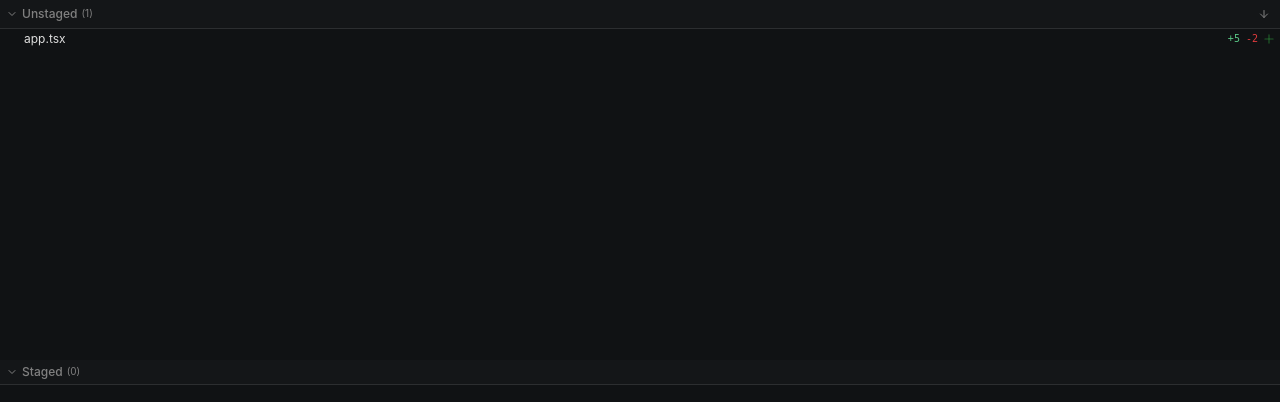
Test: DiffFileTree › context menu - copy path › should show context menu with copy options when file is right-clicked
Right-click the text "app.tsx" at (45, 39), box [24,31,66,47]
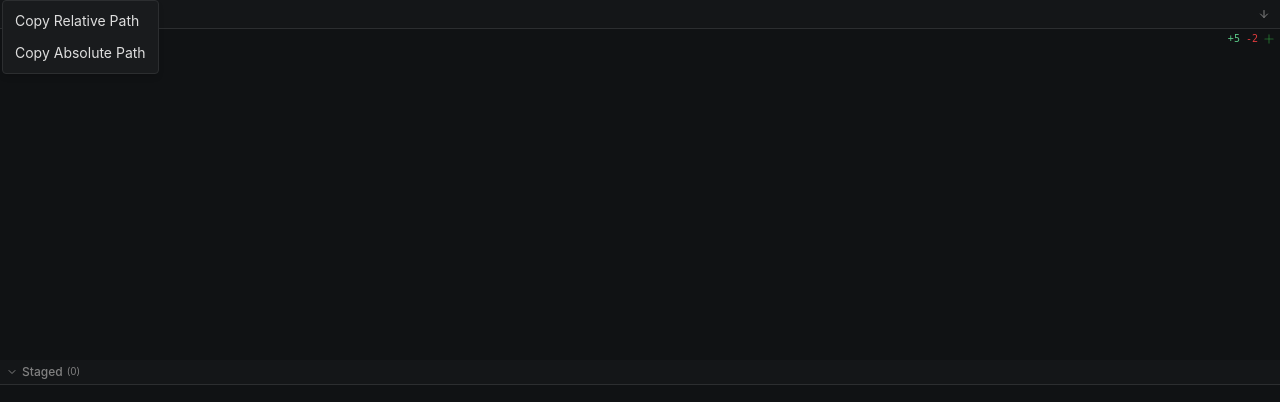
Expected: the menu item "Copy Relative Path" is shown, [15,12,139,29]
Expected: the menu item "Copy Absolute Path" is shown, [15,44,146,61]
